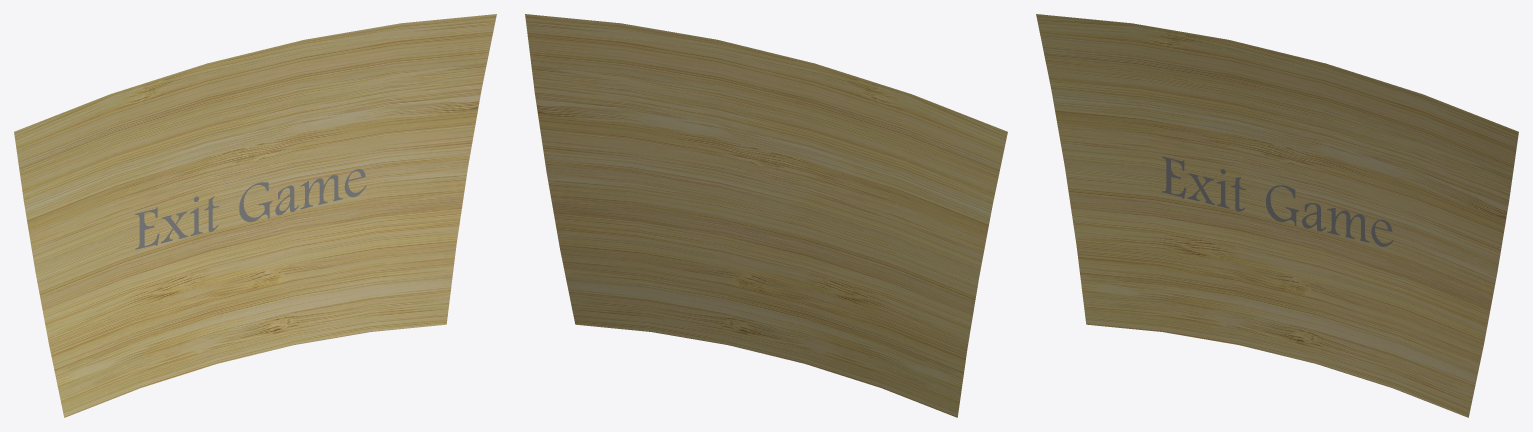
File: exitGame.FBX
3 renders of one model, left to right at view 1: azimuth 30°, elevation 25°; view 2: azimuth 150°, elevation 25°; view 3: azimuth 330°, elevation 25°, orthographic.
Parts seen in each view (by area): view 1: Plane003, TextPlus003; view 2: Plane003; view 3: Plane003, TextPlus003.
Part boxes in pixels (box(x1,y1,x2,y2)): Plane003: box(14, 14, 496, 417); TextPlus003: box(135, 169, 366, 249); Plane003: box(525, 14, 1007, 417); Plane003: box(1036, 14, 1518, 417); TextPlus003: box(1162, 156, 1393, 246).
Bounding box in the file's own units: 131 × 82.95 × 1.72.
Materials: 2 (1 with a texture image).
